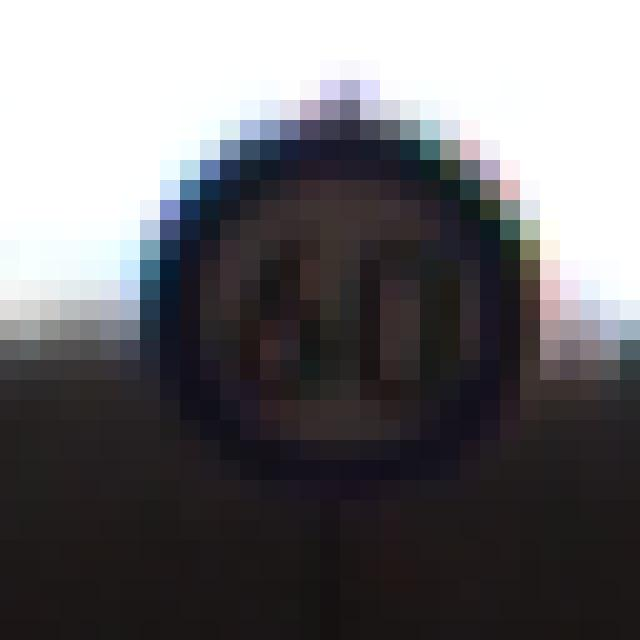SPEED-LIMIT-60: (129, 107, 568, 520)
